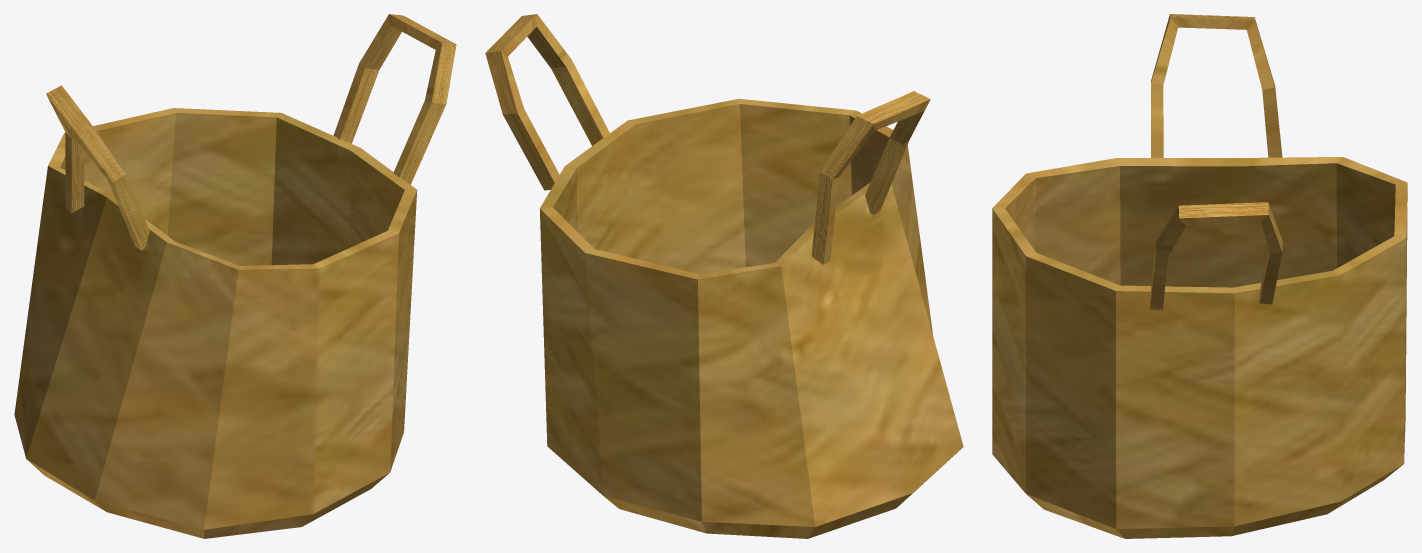
The model's file is Sack_1.fbx.
3 views of the same model, side by side, from view 1: azimuth 30°, elevation 25°; view 2: azimuth 150°, elevation 25°; view 3: azimuth 270°, elevation 25° (orthographic). The views are drawn at different scales.
Parts seen in each view (by area): view 1: Cylinder; view 2: Cylinder; view 3: Cylinder.
Boxes of the visible parts, left/top/right/bottom form: Cylinder: left=14, top=14, right=456, bottom=538; Cylinder: left=485, top=14, right=963, bottom=538; Cylinder: left=992, top=14, right=1407, bottom=538.
Bounding box in the file's own units: 2.24 × 1.96 × 2.06.
1 material, 1 textured.
